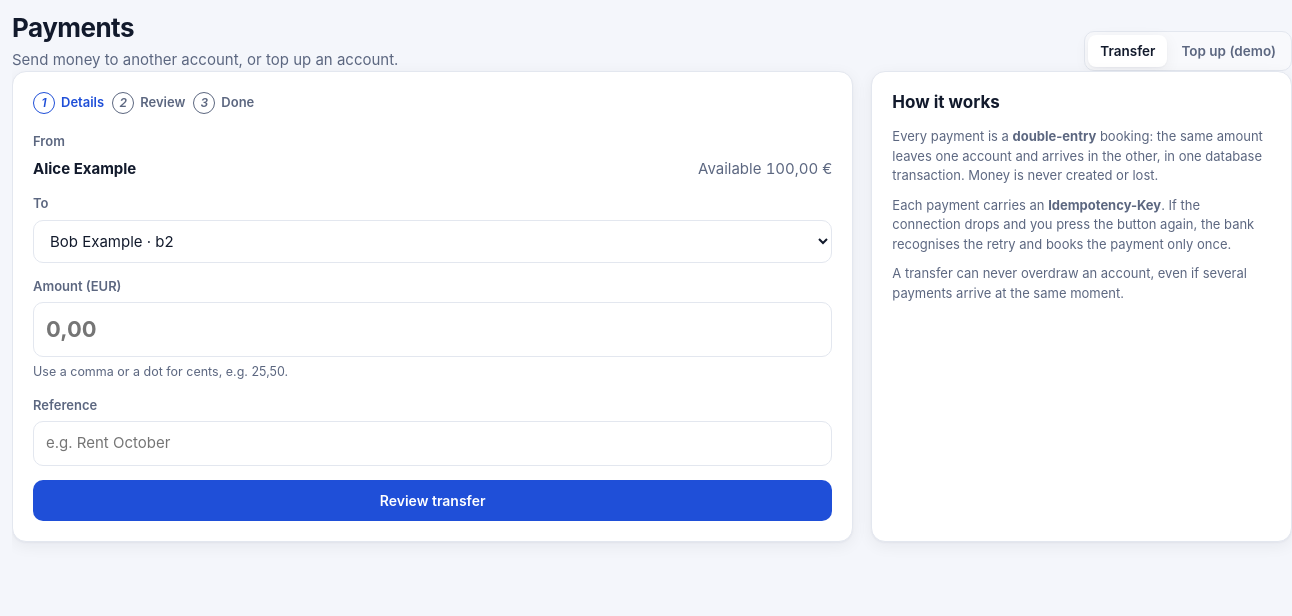
Test: PaymentsPage transfer › does not review an amount with more than two decimals
The width and height of the screenshot is (1292, 616).
Type "1.234" into the field labelled "Amount (EUR)" at (433, 330), box [33,302,832,357]
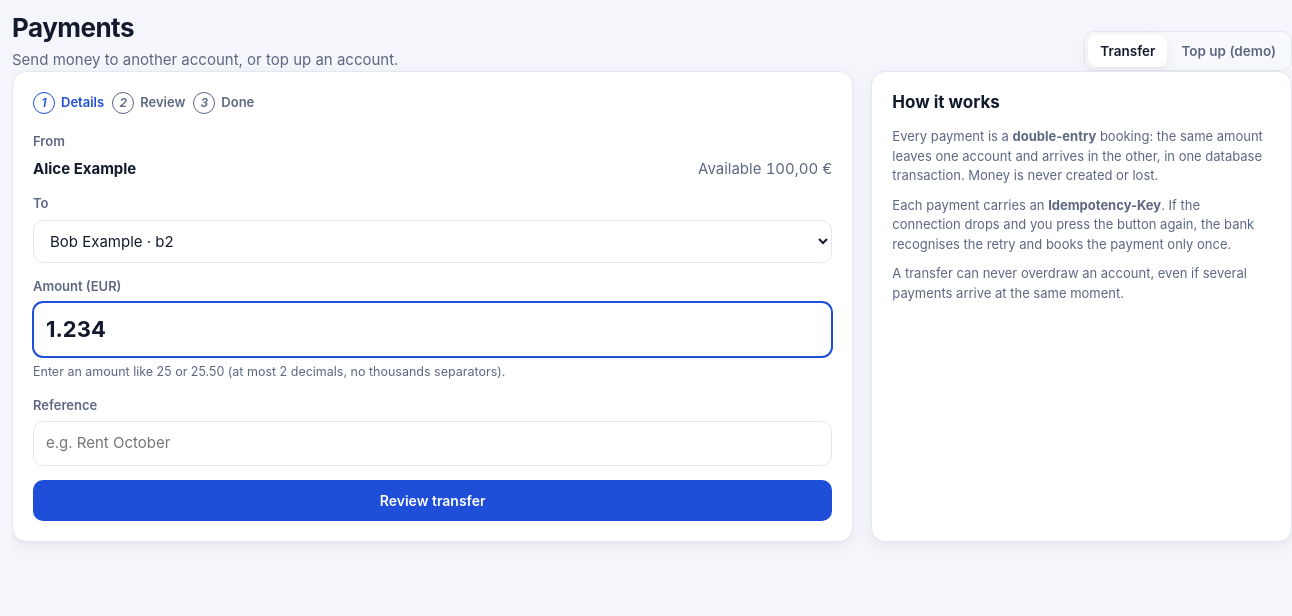
Click the button "Review transfer" at (433, 500), box [33,480,832,521]
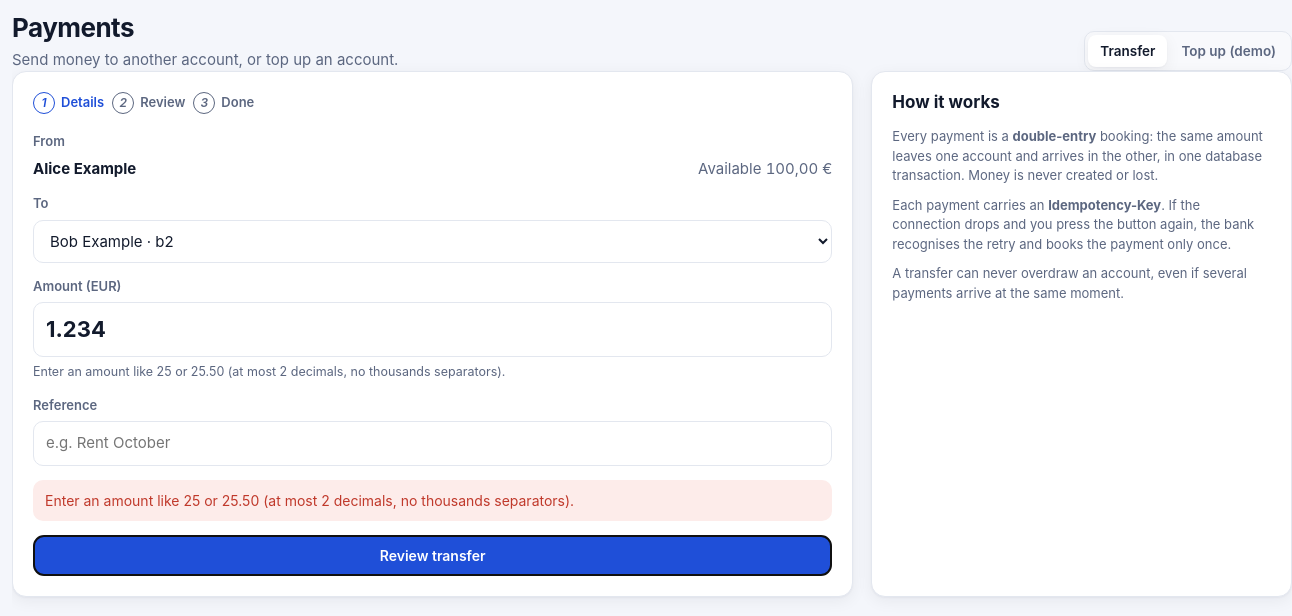
Now the message shows "at most 2 decimals", box [45,492,574,509]
